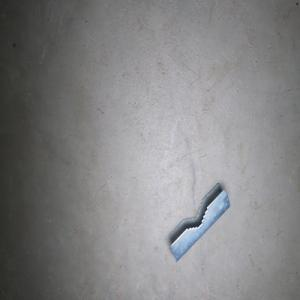ClampPart: (167, 181, 231, 263)
